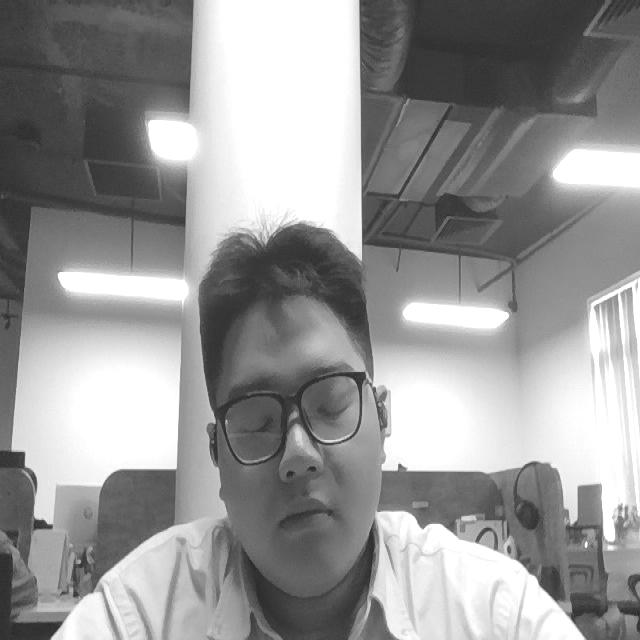real: (187, 216, 396, 604), (227, 378, 372, 447)
